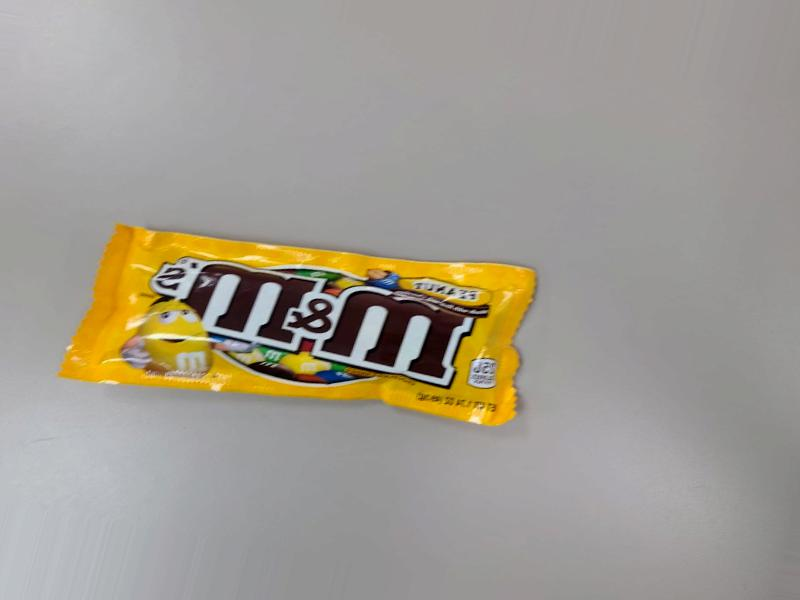m&m: (40, 215, 541, 419)
